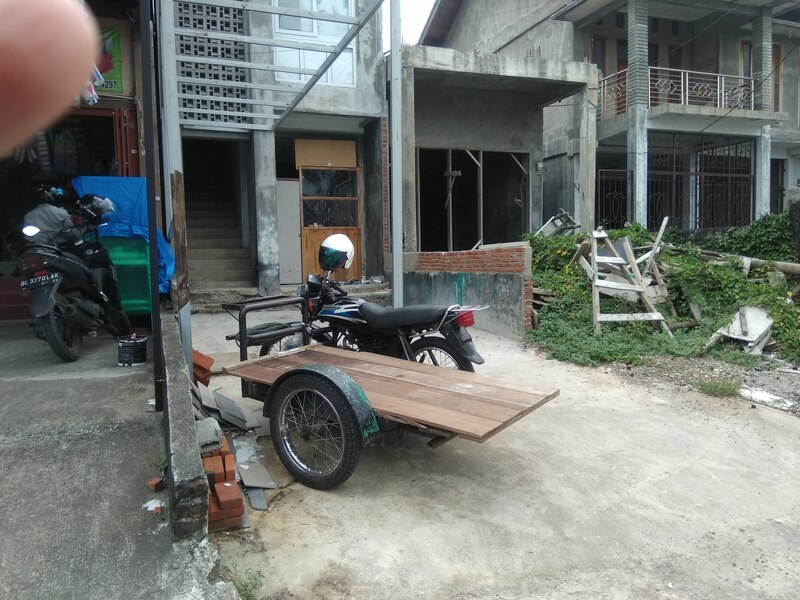becak barang: (216, 244, 564, 501)
